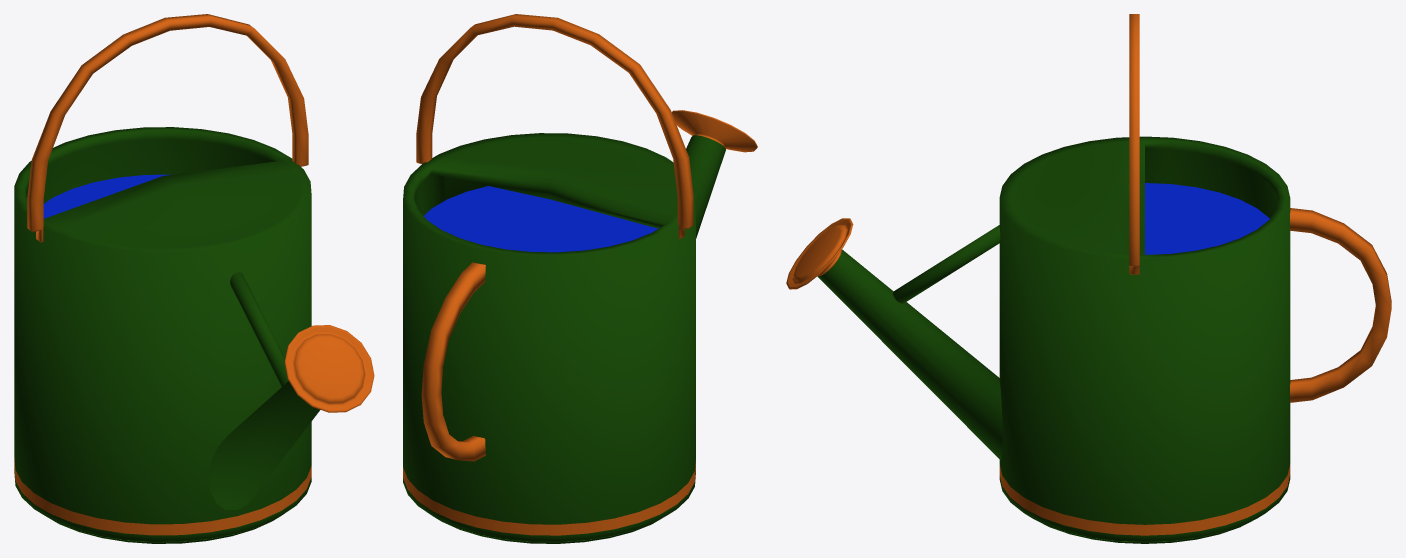
The model's file is WateringCan.fbx.
3 views of the same model, side by side, from view 1: azimuth 30°, elevation 25°; view 2: azimuth 150°, elevation 25°; view 3: azimuth 270°, elevation 25° (orthographic). The views are drawn at different scales.
Visible parts, largest first — view 1: Circle.006, Circle.010, Circle.009, Circle.012, Circle.011, Circle.008, Circle.005; view 2: Circle.006, Circle.005, Circle.010, Circle.007, Circle.011, Circle.009, Circle.012; view 3: Circle.006, Circle.009, Circle.005, Circle.007, Circle.011, Circle.010, Circle.012, Circle.008.
Boxes of the visible parts, bbox=[...] form: Circle.006: bbox=[14, 127, 311, 543]; Circle.010: bbox=[27, 14, 308, 242]; Circle.009: bbox=[208, 381, 320, 509]; Circle.012: bbox=[284, 325, 374, 412]; Circle.011: bbox=[14, 458, 311, 535]; Circle.008: bbox=[230, 272, 288, 386]; Circle.005: bbox=[43, 174, 171, 218]; Circle.006: bbox=[403, 133, 695, 543]; Circle.005: bbox=[424, 186, 658, 252]; Circle.010: bbox=[416, 14, 693, 239]; Circle.007: bbox=[421, 262, 485, 461]; Circle.011: bbox=[403, 459, 695, 535]; Circle.009: bbox=[686, 135, 725, 238]; Circle.012: bbox=[672, 110, 757, 152]; Circle.006: bbox=[999, 136, 1290, 543]; Circle.009: bbox=[817, 249, 1002, 459]; Circle.005: bbox=[1145, 183, 1269, 254]; Circle.007: bbox=[1290, 208, 1391, 402]; Circle.011: bbox=[999, 464, 1290, 535]; Circle.010: bbox=[1129, 14, 1139, 274]; Circle.012: bbox=[786, 218, 853, 289]; Circle.008: bbox=[893, 225, 1000, 303].
Size of the model in its own units: 176 by 286 by 342.
